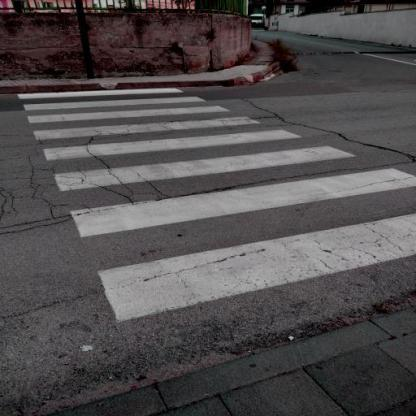crosswalk: (32, 127, 363, 199), (15, 85, 216, 114)
